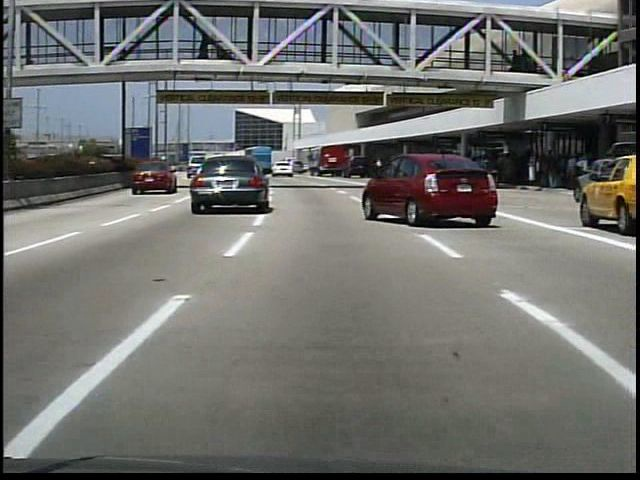person: (200, 32, 215, 60)
